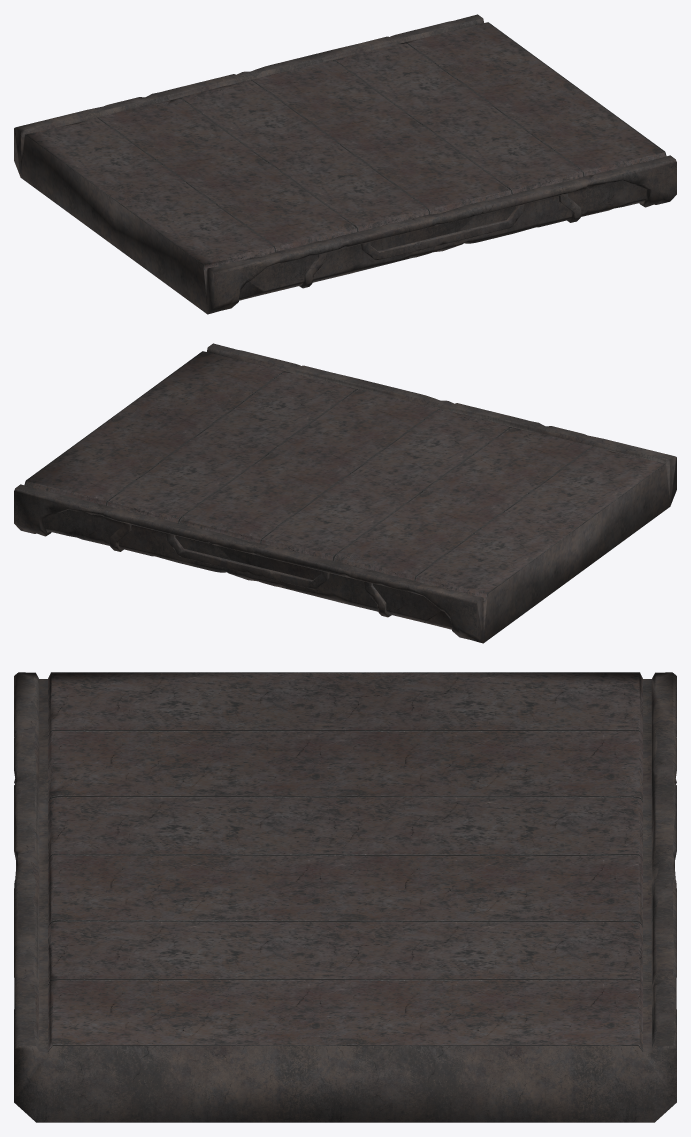
Rendered from SM_BridgeFloor.fbx.
3 views of the same model, one above another, from view 1: azimuth 30°, elevation 25°; view 2: azimuth 150°, elevation 25°; view 3: azimuth 270°, elevation 25° (orthographic). The views are drawn at different scales.
Visible parts, largest first — view 1: SM_BridgeFloor_LOD0; view 2: SM_BridgeFloor_LOD0; view 3: SM_BridgeFloor_LOD0.
Part boxes in pixels (box(x1,y1,x2,y2)): SM_BridgeFloor_LOD0: box(14, 14, 676, 314); SM_BridgeFloor_LOD0: box(14, 343, 676, 643); SM_BridgeFloor_LOD0: box(14, 672, 676, 1122).
Bounding box in the file's own units: 600 × 450 × 57.6.
Materials: 3 (3 with a texture image).
